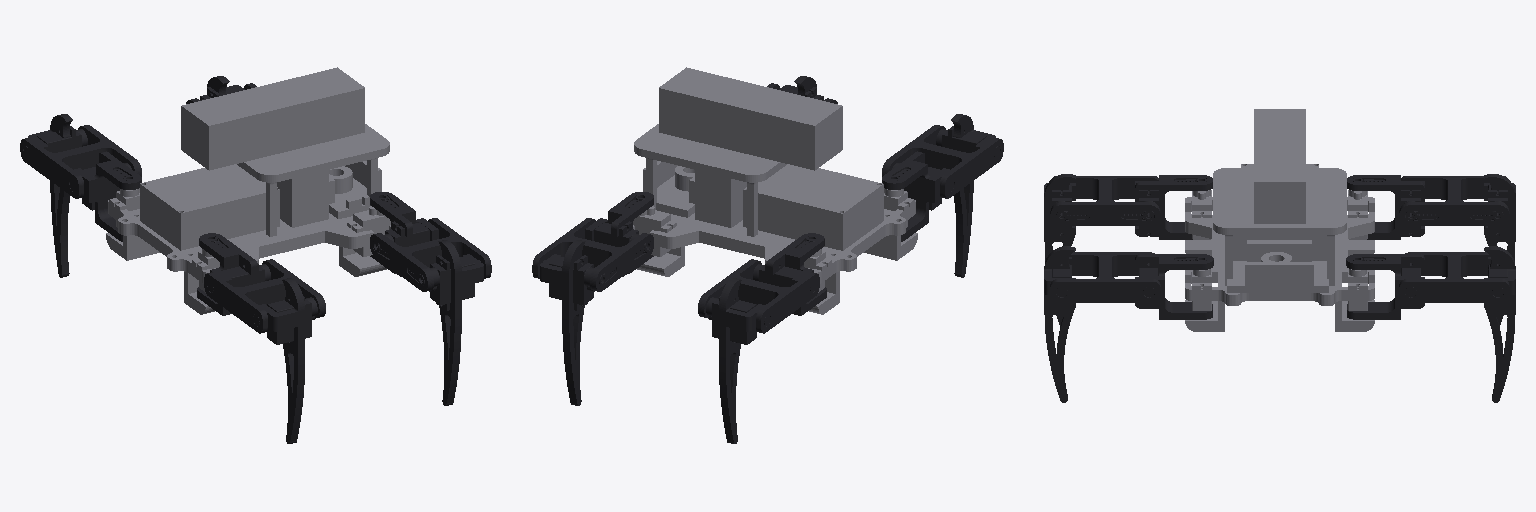
The robot description file, URDF, robot "spidy":
<?xml version="1.0" ?>
<!-- =================================================================================== -->
<!-- |    This document was autogenerated by xacro from urdf/spidy.urdf.xacro          | -->
<!-- |    EDITING THIS FILE BY HAND IS NOT RECOMMENDED                                 | -->
<!-- =================================================================================== -->
<!--
  Spidy quadruped: hand-written URDF (xacro).

  Frames (REP-103): x = forward, y = left, z = up. Units: metres, radians, kg.
  Zero pose = the pose the robot is modelled in, in Fusion: femurs horizontal,
  tibias pointing straight down.

  Kinematic tree, per leg (L = fl / fr / bl / br):
    base_link -[L_hip  z]-> L_coxa -[L_knee x]-> L_femur
              -[L_claw x]-> L_tibia -[fixed]-> L_foot

  Joint names: hip = swings the leg forward/back (yaw), knee = lifts it
  (pitch), claw = bends the tibia. Firmware calls them HIP / KNEE / ANKLE.

  Axis convention: every leg uses the SAME axes (hip +z, knee +x, claw +x).
  So +knee lifts a LEFT leg but lowers a RIGHT leg. The mirroring is
  handled in the IK/gait code, not hidden in the URDF (same convention as
  Unitree/ANYmal descriptions).

  Numbers (lengths, masses, inertias) come from spidy_generated.xacro, which
  scripts/build_description.py writes from the Fusion model + config/masses.yaml.
-->
<robot name="spidy">
  <material name="pla_dark">
    <color rgba="0.20 0.20 0.22 1"/>
  </material>
  <material name="pla_grey">
    <color rgba="0.55 0.55 0.58 1"/>
  </material>
  <material name="servo_blue">
    <color rgba="0.15 0.35 0.75 1"/>
  </material>
  <material name="rubber">
    <color rgba="0.05 0.05 0.05 1"/>
  </material>
  <!-- Leg inertials below are the FL numbers mirrored per leg:
       mirroring x flips the sign of cx, ixy, ixz; mirroring y flips cy, ixy, iyz. -->
  <!-- ============================================================ base -->
  <link name="base_link">
    <visual>
      <geometry>
        <mesh filename="../meshes/base_link.stl"/>
      </geometry>
      <material name="pla_grey"/>
    </visual>
    <!-- Collision = two boxes, not the mesh. Physics engines turn meshes into
         convex hulls anyway; boxes are faster and behave predictably. -->
    <collision>
      <origin rpy="0 0 0" xyz="2.86102e-09 0 -0.0179"/>
      <geometry>
        <box size="0.1572 0.122 0.0302"/>
      </geometry>
    </collision>
    <collision>
      <origin rpy="0 0 0" xyz="0.00411249 0 0.0347"/>
      <geometry>
        <box size="0.1428 0.086 0.075"/>
      </geometry>
    </collision>
    <inertial>
      <origin rpy="0 0 0" xyz="0.0121647 -0.000138725 0.0231342"/>
      <mass value="0.517075"/>
      <inertia ixx="0.00082636" ixy="3.7746e-06" ixz="-4.2957e-05" iyy="0.0013056" iyz="-1.5498e-06" izz="0.0010732"/>
    </inertial>
  </link>
  <!-- hip (yaw): servo m1 is screwed to the chassis, its horn turns the coxa -->
  <joint name="fl_hip" type="revolute">
    <parent link="base_link"/>
    <child link="fl_coxa"/>
    <origin rpy="0 0 0" xyz="0.06 0.05 0"/>
    <axis xyz="0 0 1"/>
    <limit effort="0.21" lower="-1.5707963267948966" upper="1.5707963267948966" velocity="13.0"/>
  </joint>
  <link name="fl_coxa">
    <visual>
      <geometry>
        <mesh filename="../meshes/fl_coxa.stl"/>
      </geometry>
      <material name="pla_dark"/>
    </visual>
    <inertial>
      <origin rpy="0 0 0" xyz="-0.00178525 0.0295615 -0.00439371"/>
      <mass value="0.0200143"/>
      <inertia ixx="4.0522e-06" ixy="2.028e-07" ixz="1.3216e-08" iyy="3.0828e-06" iyz="2.501e-07" izz="3.3662e-06"/>
    </inertial>
  </link>
  <!-- knee (pitch): servo m2 sits in the coxa bracket, its horn drives the femur link -->
  <joint name="fl_knee" type="revolute">
    <parent link="fl_coxa"/>
    <child link="fl_femur"/>
    <origin rpy="0 0 0" xyz="0 0.0342 0"/>
    <axis xyz="1 0 0"/>
    <limit effort="0.21" lower="-1.5707963267948966" upper="1.5707963267948966" velocity="13.0"/>
  </joint>
  <link name="fl_femur">
    <visual>
      <geometry>
        <mesh filename="../meshes/fl_femur.stl"/>
      </geometry>
      <material name="pla_dark"/>
    </visual>
    <inertial>
      <origin rpy="0 0 0" xyz="-0.00630845 0.0278224 5.95122e-10"/>
      <mass value="0.00891947"/>
      <inertia ixx="2.7866e-06" ixy="1.451e-08" ixz="5.3652e-14" iyy="2.8842e-06" iyz="-6.8104e-12" izz="5.38e-06"/>
    </inertial>
  </link>
  <!-- claw: servo m3 is screwed into the claw; its horn is fixed to the femur
         link, so the servo BODY rotates with the tibia. Same joint either way. -->
  <joint name="fl_claw" type="revolute">
    <parent link="fl_femur"/>
    <child link="fl_tibia"/>
    <origin rpy="0 0 0" xyz="0 0.0558 0"/>
    <axis xyz="1 0 0"/>
    <limit effort="0.21" lower="-1.5707963267948966" upper="1.5707963267948966" velocity="13.0"/>
  </joint>
  <link name="fl_tibia">
    <visual>
      <geometry>
        <mesh filename="../meshes/fl_tibia.stl"/>
      </geometry>
      <material name="pla_dark"/>
    </visual>
    <!-- Only the foot tip touches the ground: one small sphere -->
    <collision>
      <origin rpy="0 0 0" xyz="-0.005 -0.00121 -0.0849"/>
      <geometry>
        <sphere radius="0.004"/>
      </geometry>
    </collision>
    <inertial>
      <origin rpy="0 0 0" xyz="-0.00325911 0.00066042 -0.00898153"/>
      <mass value="0.0179021"/>
      <inertia ixx="5.0764e-06" ixy="-1.3773e-08" ixz="-1.3394e-07" iyy="5.8392e-06" iyz="1.1033e-07" izz="1.3679e-06"/>
    </inertial>
  </link>
  <!-- Foot frame: massless marker at the tip. IK targets this frame. -->
  <joint name="fl_foot_fixed" type="fixed">
    <parent link="fl_tibia"/>
    <child link="fl_foot"/>
    <origin rpy="0 0 0" xyz="-0.005 -0.00121 -0.0889"/>
  </joint>
  <link name="fl_foot"/>
  <!-- hip (yaw): servo m1 is screwed to the chassis, its horn turns the coxa -->
  <joint name="fr_hip" type="revolute">
    <parent link="base_link"/>
    <child link="fr_coxa"/>
    <origin rpy="0 0 0" xyz="0.06 -0.05 0"/>
    <axis xyz="0 0 1"/>
    <limit effort="0.21" lower="-1.5707963267948966" upper="1.5707963267948966" velocity="13.0"/>
  </joint>
  <link name="fr_coxa">
    <visual>
      <geometry>
        <mesh filename="../meshes/fr_coxa.stl"/>
      </geometry>
      <material name="pla_dark"/>
    </visual>
    <inertial>
      <origin rpy="0 0 0" xyz="-0.00178525 -0.0295615 -0.00439371"/>
      <mass value="0.0200143"/>
      <inertia ixx="4.0522e-06" ixy="-2.028e-07" ixz="1.3216e-08" iyy="3.0828e-06" iyz="-2.501e-07" izz="3.3662e-06"/>
    </inertial>
  </link>
  <!-- knee (pitch): servo m2 sits in the coxa bracket, its horn drives the femur link -->
  <joint name="fr_knee" type="revolute">
    <parent link="fr_coxa"/>
    <child link="fr_femur"/>
    <origin rpy="0 0 0" xyz="0 -0.0342 0"/>
    <axis xyz="1 0 0"/>
    <limit effort="0.21" lower="-1.5707963267948966" upper="1.5707963267948966" velocity="13.0"/>
  </joint>
  <link name="fr_femur">
    <visual>
      <geometry>
        <mesh filename="../meshes/fr_femur.stl"/>
      </geometry>
      <material name="pla_dark"/>
    </visual>
    <inertial>
      <origin rpy="0 0 0" xyz="-0.00630845 -0.0278224 5.95122e-10"/>
      <mass value="0.00891947"/>
      <inertia ixx="2.7866e-06" ixy="-1.451e-08" ixz="5.3652e-14" iyy="2.8842e-06" iyz="6.8104e-12" izz="5.38e-06"/>
    </inertial>
  </link>
  <!-- claw: servo m3 is screwed into the claw; its horn is fixed to the femur
         link, so the servo BODY rotates with the tibia. Same joint either way. -->
  <joint name="fr_claw" type="revolute">
    <parent link="fr_femur"/>
    <child link="fr_tibia"/>
    <origin rpy="0 0 0" xyz="0 -0.0558 0"/>
    <axis xyz="1 0 0"/>
    <limit effort="0.21" lower="-1.5707963267948966" upper="1.5707963267948966" velocity="13.0"/>
  </joint>
  <link name="fr_tibia">
    <visual>
      <geometry>
        <mesh filename="../meshes/fr_tibia.stl"/>
      </geometry>
      <material name="pla_dark"/>
    </visual>
    <!-- Only the foot tip touches the ground: one small sphere -->
    <collision>
      <origin rpy="0 0 0" xyz="-0.005 0.00121 -0.0849"/>
      <geometry>
        <sphere radius="0.004"/>
      </geometry>
    </collision>
    <inertial>
      <origin rpy="0 0 0" xyz="-0.00325911 -0.00066042 -0.00898153"/>
      <mass value="0.0179021"/>
      <inertia ixx="5.0764e-06" ixy="1.3773e-08" ixz="-1.3394e-07" iyy="5.8392e-06" iyz="-1.1033e-07" izz="1.3679e-06"/>
    </inertial>
  </link>
  <!-- Foot frame: massless marker at the tip. IK targets this frame. -->
  <joint name="fr_foot_fixed" type="fixed">
    <parent link="fr_tibia"/>
    <child link="fr_foot"/>
    <origin rpy="0 0 0" xyz="-0.005 0.00121 -0.0889"/>
  </joint>
  <link name="fr_foot"/>
  <!-- hip (yaw): servo m1 is screwed to the chassis, its horn turns the coxa -->
  <joint name="bl_hip" type="revolute">
    <parent link="base_link"/>
    <child link="bl_coxa"/>
    <origin rpy="0 0 0" xyz="-0.06 0.05 0"/>
    <axis xyz="0 0 1"/>
    <limit effort="0.21" lower="-1.5707963267948966" upper="1.5707963267948966" velocity="13.0"/>
  </joint>
  <link name="bl_coxa">
    <visual>
      <geometry>
        <mesh filename="../meshes/bl_coxa.stl"/>
      </geometry>
      <material name="pla_dark"/>
    </visual>
    <inertial>
      <origin rpy="0 0 0" xyz="0.00178525 0.0295615 -0.00439371"/>
      <mass value="0.0200143"/>
      <inertia ixx="4.0522e-06" ixy="-2.028e-07" ixz="-1.3216e-08" iyy="3.0828e-06" iyz="2.501e-07" izz="3.3662e-06"/>
    </inertial>
  </link>
  <!-- knee (pitch): servo m2 sits in the coxa bracket, its horn drives the femur link -->
  <joint name="bl_knee" type="revolute">
    <parent link="bl_coxa"/>
    <child link="bl_femur"/>
    <origin rpy="0 0 0" xyz="0 0.0342 0"/>
    <axis xyz="1 0 0"/>
    <limit effort="0.21" lower="-1.5707963267948966" upper="1.5707963267948966" velocity="13.0"/>
  </joint>
  <link name="bl_femur">
    <visual>
      <geometry>
        <mesh filename="../meshes/bl_femur.stl"/>
      </geometry>
      <material name="pla_dark"/>
    </visual>
    <inertial>
      <origin rpy="0 0 0" xyz="0.00630845 0.0278224 5.95122e-10"/>
      <mass value="0.00891947"/>
      <inertia ixx="2.7866e-06" ixy="-1.451e-08" ixz="-5.3652e-14" iyy="2.8842e-06" iyz="-6.8104e-12" izz="5.38e-06"/>
    </inertial>
  </link>
  <!-- claw: servo m3 is screwed into the claw; its horn is fixed to the femur
         link, so the servo BODY rotates with the tibia. Same joint either way. -->
  <joint name="bl_claw" type="revolute">
    <parent link="bl_femur"/>
    <child link="bl_tibia"/>
    <origin rpy="0 0 0" xyz="0 0.0558 0"/>
    <axis xyz="1 0 0"/>
    <limit effort="0.21" lower="-1.5707963267948966" upper="1.5707963267948966" velocity="13.0"/>
  </joint>
  <link name="bl_tibia">
    <visual>
      <geometry>
        <mesh filename="../meshes/bl_tibia.stl"/>
      </geometry>
      <material name="pla_dark"/>
    </visual>
    <!-- Only the foot tip touches the ground: one small sphere -->
    <collision>
      <origin rpy="0 0 0" xyz="0.005 -0.00121 -0.0849"/>
      <geometry>
        <sphere radius="0.004"/>
      </geometry>
    </collision>
    <inertial>
      <origin rpy="0 0 0" xyz="0.00325911 0.00066042 -0.00898153"/>
      <mass value="0.0179021"/>
      <inertia ixx="5.0764e-06" ixy="1.3773e-08" ixz="1.3394e-07" iyy="5.8392e-06" iyz="1.1033e-07" izz="1.3679e-06"/>
    </inertial>
  </link>
  <!-- Foot frame: massless marker at the tip. IK targets this frame. -->
  <joint name="bl_foot_fixed" type="fixed">
    <parent link="bl_tibia"/>
    <child link="bl_foot"/>
    <origin rpy="0 0 0" xyz="0.005 -0.00121 -0.0889"/>
  </joint>
  <link name="bl_foot"/>
  <!-- hip (yaw): servo m1 is screwed to the chassis, its horn turns the coxa -->
  <joint name="br_hip" type="revolute">
    <parent link="base_link"/>
    <child link="br_coxa"/>
    <origin rpy="0 0 0" xyz="-0.06 -0.05 0"/>
    <axis xyz="0 0 1"/>
    <limit effort="0.21" lower="-1.5707963267948966" upper="1.5707963267948966" velocity="13.0"/>
  </joint>
  <link name="br_coxa">
    <visual>
      <geometry>
        <mesh filename="../meshes/br_coxa.stl"/>
      </geometry>
      <material name="pla_dark"/>
    </visual>
    <inertial>
      <origin rpy="0 0 0" xyz="0.00178525 -0.0295615 -0.00439371"/>
      <mass value="0.0200143"/>
      <inertia ixx="4.0522e-06" ixy="2.028e-07" ixz="-1.3216e-08" iyy="3.0828e-06" iyz="-2.501e-07" izz="3.3662e-06"/>
    </inertial>
  </link>
  <!-- knee (pitch): servo m2 sits in the coxa bracket, its horn drives the femur link -->
  <joint name="br_knee" type="revolute">
    <parent link="br_coxa"/>
    <child link="br_femur"/>
    <origin rpy="0 0 0" xyz="0 -0.0342 0"/>
    <axis xyz="1 0 0"/>
    <limit effort="0.21" lower="-1.5707963267948966" upper="1.5707963267948966" velocity="13.0"/>
  </joint>
  <link name="br_femur">
    <visual>
      <geometry>
        <mesh filename="../meshes/br_femur.stl"/>
      </geometry>
      <material name="pla_dark"/>
    </visual>
    <inertial>
      <origin rpy="0 0 0" xyz="0.00630845 -0.0278224 5.95122e-10"/>
      <mass value="0.00891947"/>
      <inertia ixx="2.7866e-06" ixy="1.451e-08" ixz="-5.3652e-14" iyy="2.8842e-06" iyz="6.8104e-12" izz="5.38e-06"/>
    </inertial>
  </link>
  <!-- claw: servo m3 is screwed into the claw; its horn is fixed to the femur
         link, so the servo BODY rotates with the tibia. Same joint either way. -->
  <joint name="br_claw" type="revolute">
    <parent link="br_femur"/>
    <child link="br_tibia"/>
    <origin rpy="0 0 0" xyz="0 -0.0558 0"/>
    <axis xyz="1 0 0"/>
    <limit effort="0.21" lower="-1.5707963267948966" upper="1.5707963267948966" velocity="13.0"/>
  </joint>
  <link name="br_tibia">
    <visual>
      <geometry>
        <mesh filename="../meshes/br_tibia.stl"/>
      </geometry>
      <material name="pla_dark"/>
    </visual>
    <!-- Only the foot tip touches the ground: one small sphere -->
    <collision>
      <origin rpy="0 0 0" xyz="0.005 0.00121 -0.0849"/>
      <geometry>
        <sphere radius="0.004"/>
      </geometry>
    </collision>
    <inertial>
      <origin rpy="0 0 0" xyz="0.00325911 -0.00066042 -0.00898153"/>
      <mass value="0.0179021"/>
      <inertia ixx="5.0764e-06" ixy="-1.3773e-08" ixz="1.3394e-07" iyy="5.8392e-06" iyz="-1.1033e-07" izz="1.3679e-06"/>
    </inertial>
  </link>
  <!-- Foot frame: massless marker at the tip. IK targets this frame. -->
  <joint name="br_foot_fixed" type="fixed">
    <parent link="br_tibia"/>
    <child link="br_foot"/>
    <origin rpy="0 0 0" xyz="0.005 0.00121 -0.0889"/>
  </joint>
  <link name="br_foot"/>
</robot>

--- Facts derived from the render (not from the file) ---
3 views of the same robot in one strip: view 1: azimuth 30°, elevation 25°; view 2: azimuth 150°, elevation 25°; view 3: azimuth 270°, elevation 25° (orthographic).
Model spidy with 17 links and 16 joints (12 revolute, 4 fixed), rooted at base_link, posed every joint at zero.
Visible links, largest first — view 1: base_link, fr_tibia, br_tibia, fr_femur, br_femur, bl_femur, bl_tibia, bl_coxa, br_coxa, fr_coxa, fl_tibia; view 2: base_link, fl_tibia, bl_tibia, fl_femur, bl_femur, br_femur, br_tibia, br_coxa, bl_coxa, fl_coxa, fr_tibia; view 3: base_link, bl_femur, br_femur, fl_femur, fr_femur, fl_tibia, fr_tibia, fl_coxa, fr_coxa, bl_coxa, br_coxa, bl_tibia (+1 smaller).
Boxes of the visible links, left/top/right/bottom form: base_link: left=106, top=67, right=390, bottom=314; fr_tibia: left=429, top=240, right=483, bottom=405; br_tibia: left=253, top=278, right=317, bottom=443; fr_femur: left=370, top=218, right=491, bottom=291; br_femur: left=204, top=259, right=325, bottom=333; bl_femur: left=20, top=125, right=141, bottom=198; bl_tibia: left=24, top=114, right=87, bottom=277; bl_coxa: left=70, top=151, right=141, bottom=241; br_coxa: left=197, top=233, right=270, bottom=315; fr_coxa: left=370, top=192, right=438, bottom=276; fl_tibia: left=200, top=76, right=244, bottom=100; base_link: left=633, top=67, right=917, bottom=314; fl_tibia: left=540, top=240, right=594, bottom=405; bl_tibia: left=706, top=278, right=770, bottom=443; fl_femur: left=532, top=218, right=653, bottom=291; bl_femur: left=698, top=259, right=819, bottom=333; br_femur: left=882, top=125, right=1003, bottom=198; br_tibia: left=936, top=114, right=999, bottom=277; br_coxa: left=882, top=151, right=953, bottom=241; bl_coxa: left=753, top=233, right=826, bottom=315; fl_coxa: left=585, top=192, right=653, bottom=276; fr_tibia: left=779, top=76, right=823, bottom=100; base_link: left=1185, top=109, right=1374, bottom=331; bl_femur: left=1399, top=176, right=1509, bottom=225; br_femur: left=1050, top=176, right=1160, bottom=225; fl_femur: left=1399, top=252, right=1509, bottom=302; fr_femur: left=1050, top=252, right=1160, bottom=302; fl_tibia: left=1484, top=246, right=1515, bottom=402; fr_tibia: left=1044, top=246, right=1075, bottom=402; fl_coxa: left=1346, top=254, right=1424, bottom=319; fr_coxa: left=1135, top=254, right=1213, bottom=319; bl_coxa: left=1347, top=175, right=1424, bottom=239; br_coxa: left=1135, top=175, right=1212, bottom=239; bl_tibia: left=1484, top=174, right=1515, bottom=325.
Size in the robot's own frame: 0.161 by 0.3024 by 0.1613 metres.
Meshes: 13 distinct files referenced, 13 mesh visuals loaded (13 binary STL).
